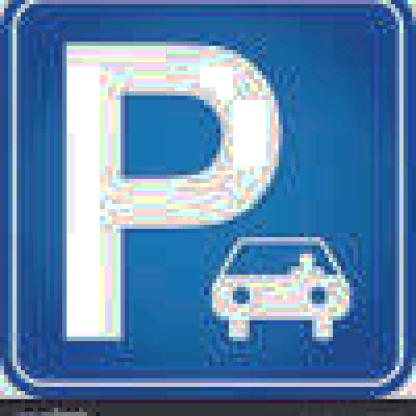Parking: (20, 4, 399, 388)
